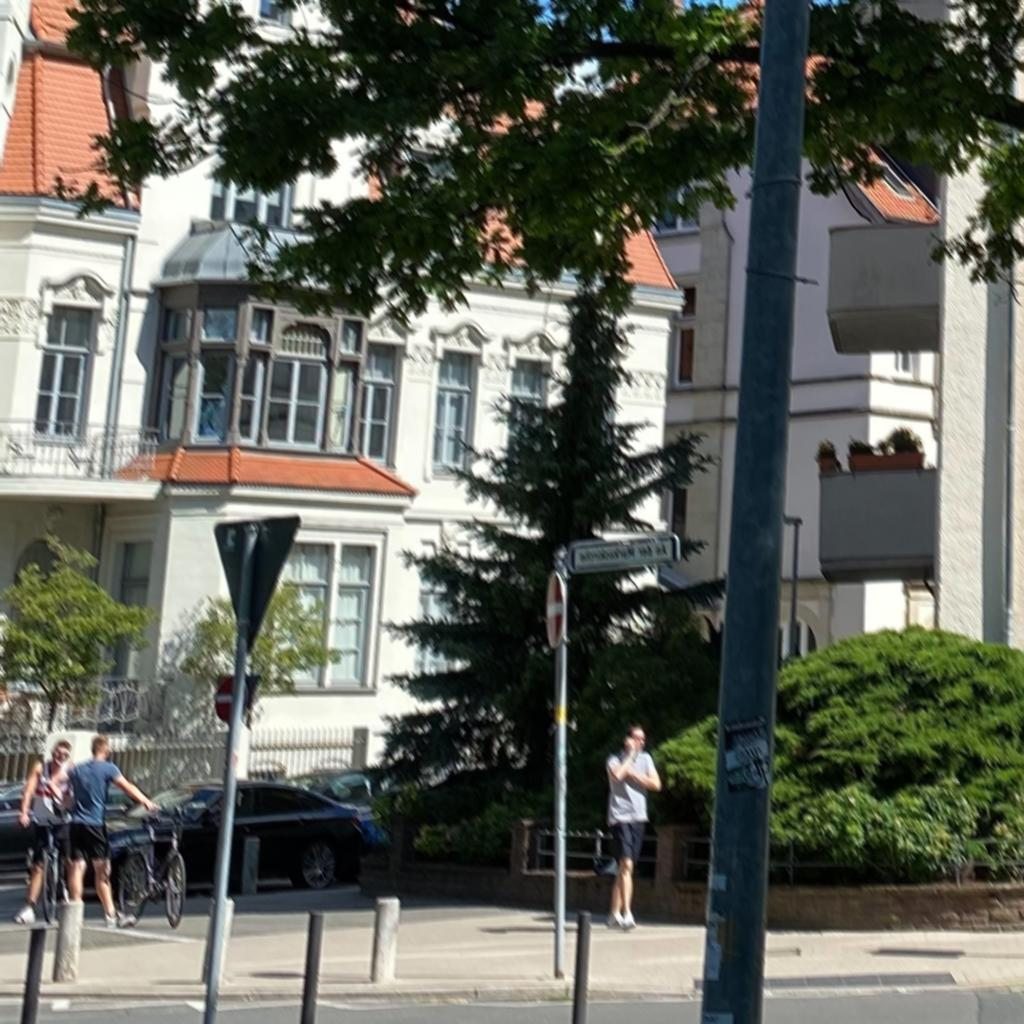tree: (52, 1, 1023, 327), (363, 221, 727, 854), (1, 532, 159, 735), (180, 580, 341, 729)
